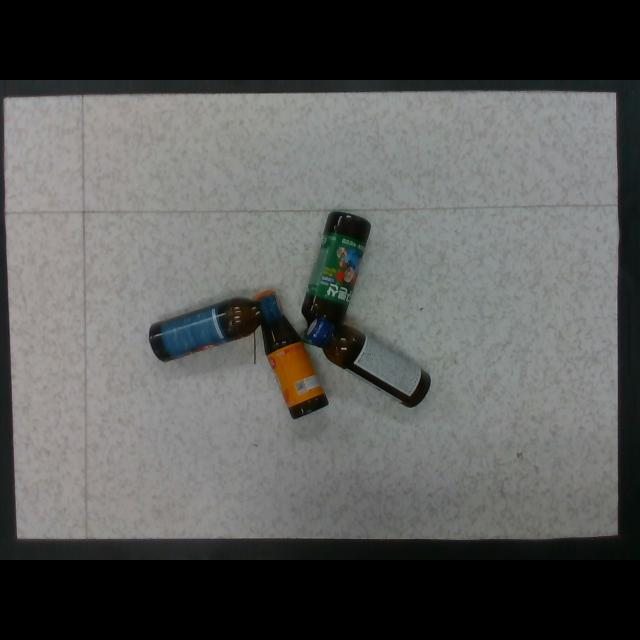energdrink: (307, 317, 430, 408), (303, 211, 373, 351), (254, 291, 329, 418), (149, 293, 283, 362)
